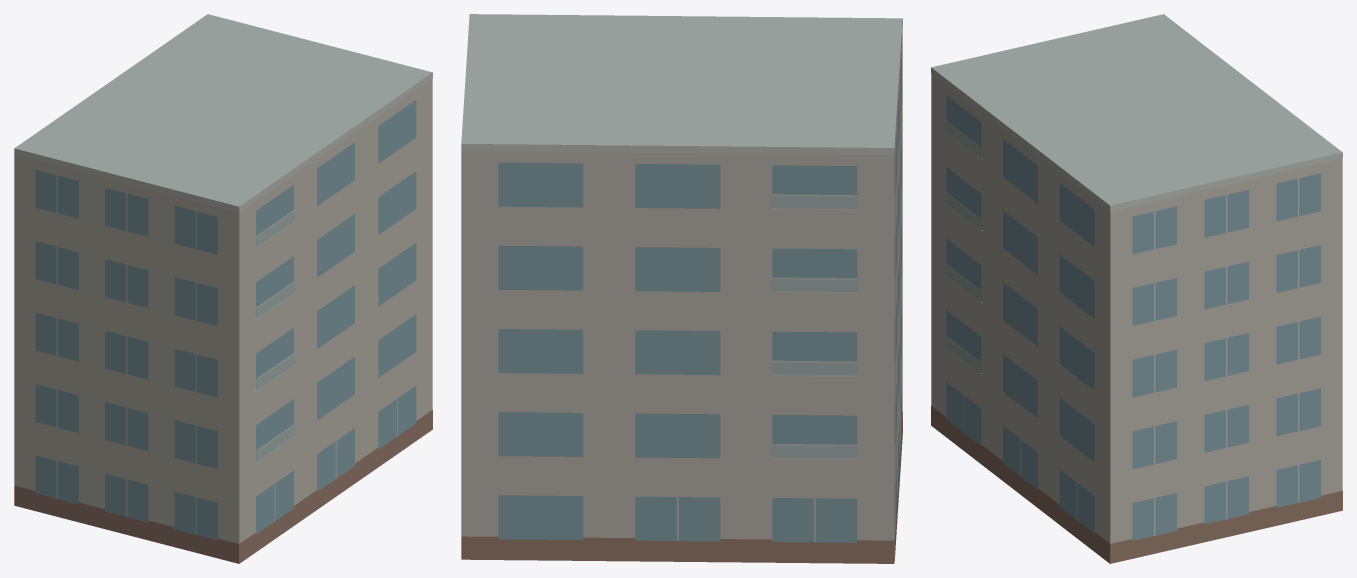
File: survey-upis-32694470.glb
3 renders of one model, left to right at view 1: azimuth 30°, elevation 25°; view 2: azimuth 150°, elevation 25°; view 3: azimuth 270°, elevation 25°, orthographic. The views are drawn at different scales.
Visible parts, largest first — view 1: survey-upis-32694470.tmp; view 2: survey-upis-32694470.tmp; view 3: survey-upis-32694470.tmp.
Boxes of the visible parts, x1,y1,x2,y2 form: survey-upis-32694470.tmp: (14,14,432,563); survey-upis-32694470.tmp: (461,14,902,563); survey-upis-32694470.tmp: (931,14,1342,563).
Bounding box in the file's own units: 16.65 × 14.5 × 15.11.
